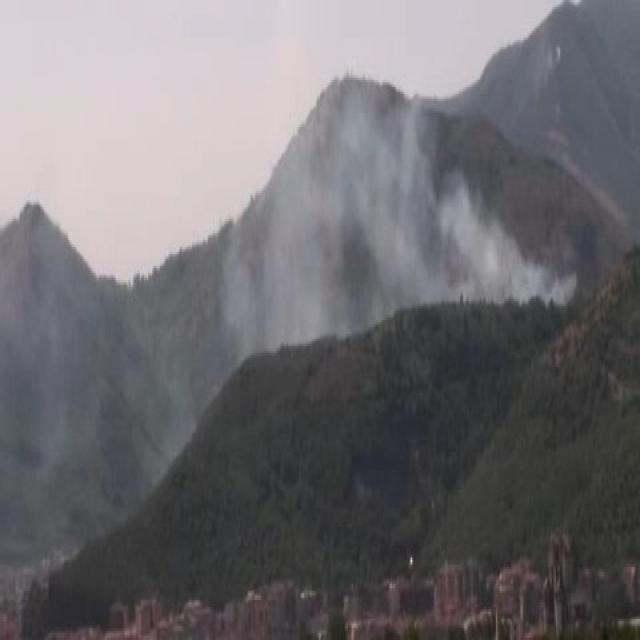smoke: (324, 93, 497, 326)
